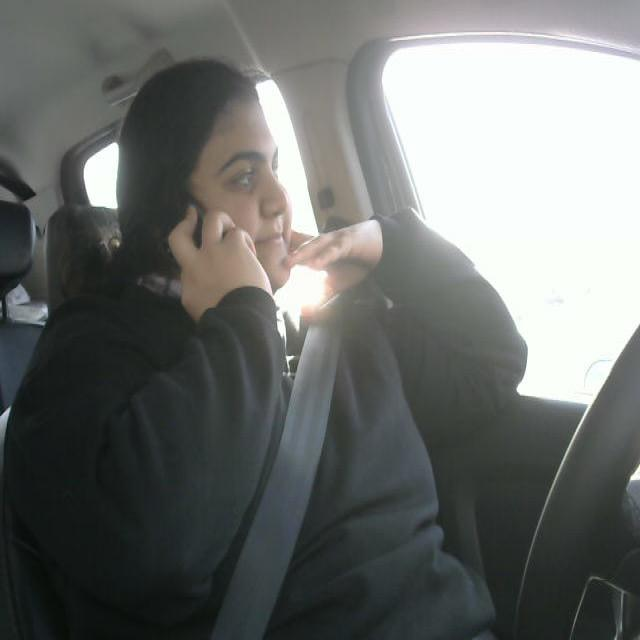mobile use: (143, 183, 256, 304)
